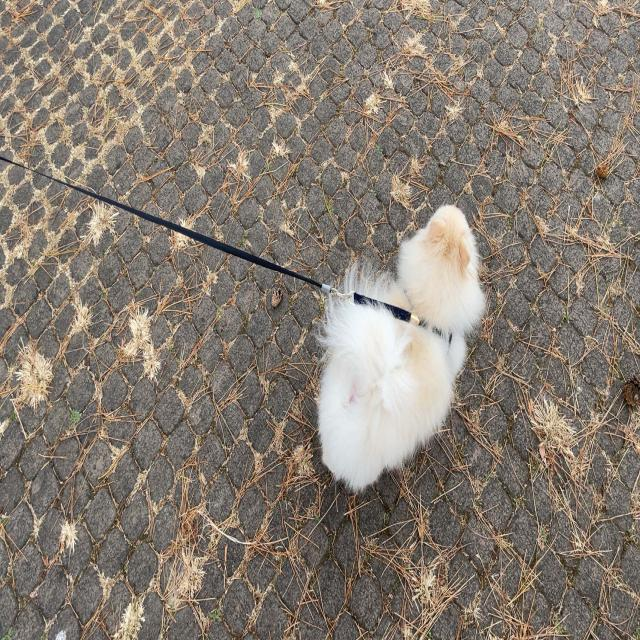Dog: (313, 203, 488, 492)
